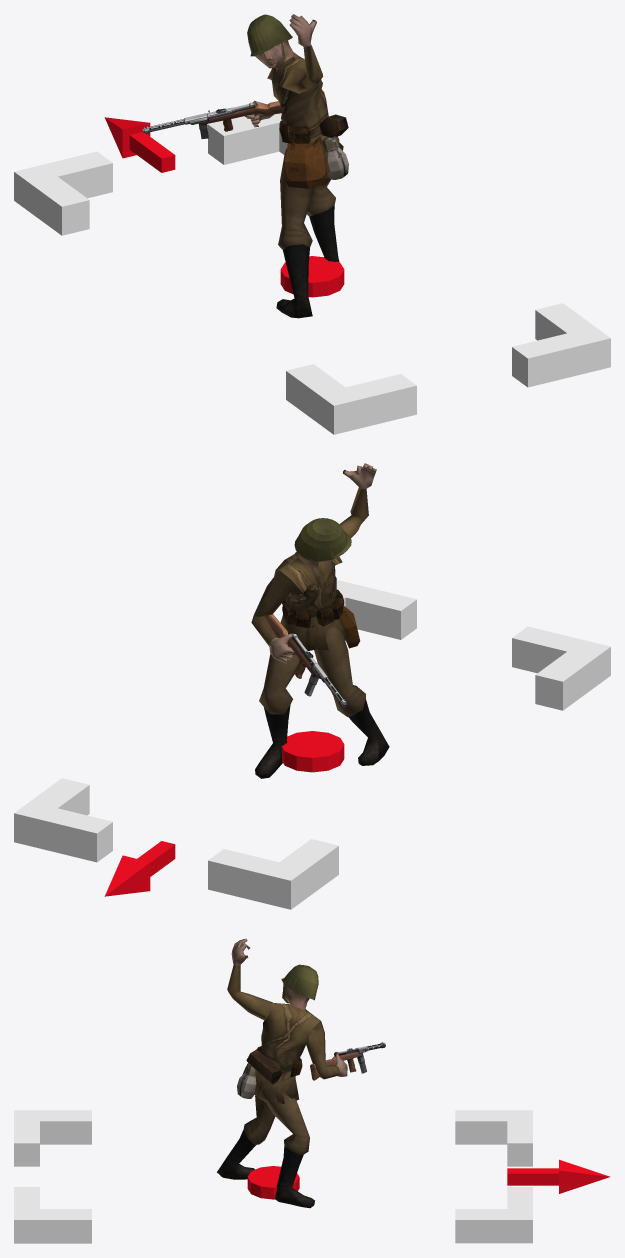
Rendered from cf_sov_pl.obj.
3 renders of one model, top to bottom at view 1: azimuth 30°, elevation 25°; view 2: azimuth 150°, elevation 25°; view 3: azimuth 270°, elevation 25°, orthographic. The views are drawn at different scales.
Parts seen in each view (by area): view 1: i_frame_Cube.001, german_rigged, arrow_Cube, pointer_Cylinder; view 2: i_frame_Cube.001, german_rigged, pointer_Cylinder, arrow_Cube; view 3: german_rigged, i_frame_Cube.001, arrow_Cube, pointer_Cylinder.
Boxes of the visible parts, x1=… form: i_frame_Cube.001: x1=14, y1=113, x2=610, y2=434; german_rigged: x1=142, y1=14, x2=348, y2=318; arrow_Cube: x1=104, y1=117, x2=175, y2=172; pointer_Cylinder: x1=280, y1=256, x2=344, y2=297; i_frame_Cube.001: x1=14, y1=580, x2=610, y2=909; german_rigged: x1=251, y1=463, x2=389, y2=778; pointer_Cylinder: x1=281, y1=731, x2=344, y2=772; arrow_Cube: x1=104, y1=841, x2=175, y2=896; german_rigged: x1=217, y1=938, x2=385, y2=1208; i_frame_Cube.001: x1=14, y1=1110, x2=532, y2=1243; arrow_Cube: x1=507, y1=1159, x2=610, y2=1193; pointer_Cylinder: x1=247, y1=1166, x2=299, y2=1199.
Bounding box in the file's own units: 2 × 2.06 × 4.6.
2 materials, 2 textured.
